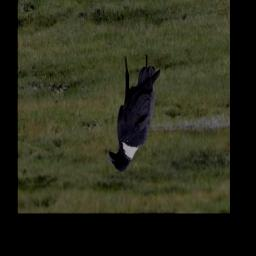Crow: (110, 56, 161, 174)
